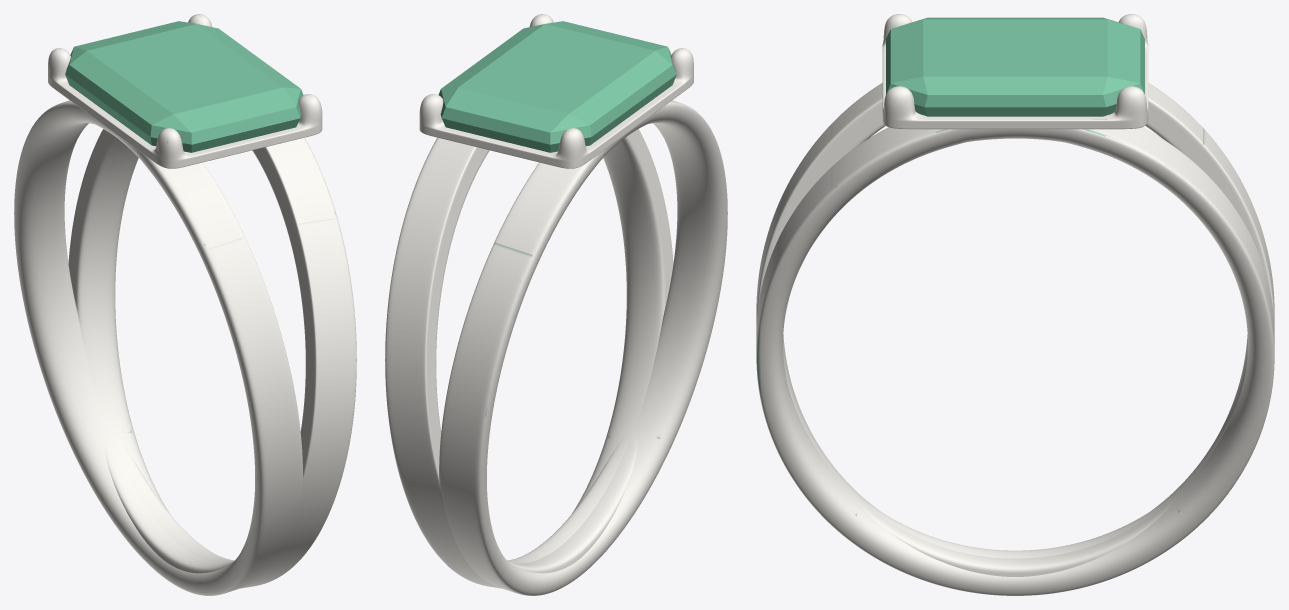
The model's file is EGreen.glb.
The picture shows the model from 3 angles, left to right: view 1: azimuth 30°, elevation 25°; view 2: azimuth 150°, elevation 25°; view 3: azimuth 270°, elevation 25°; orthographic projection. The views are drawn at different scales.
Bounding box in the file's own units: 5.25 × 15.67 × 13.67.
Materials: 2 (1 with a texture image).
